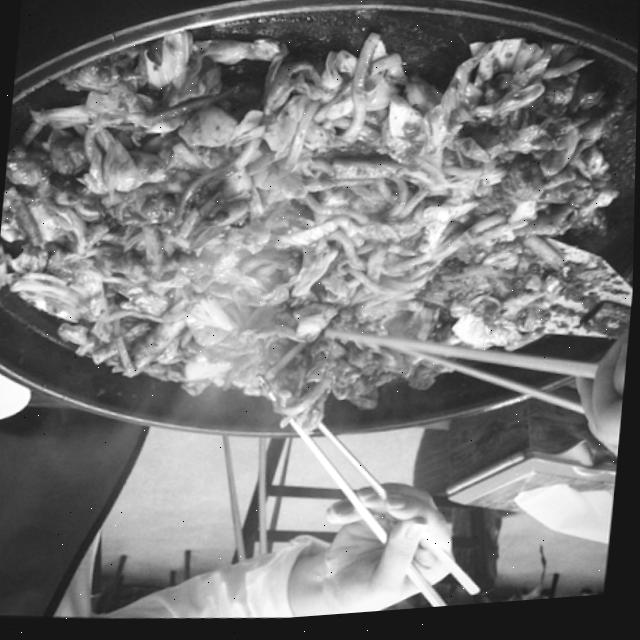鸡肉料理 含炸鸡: (0, 11, 639, 625)
